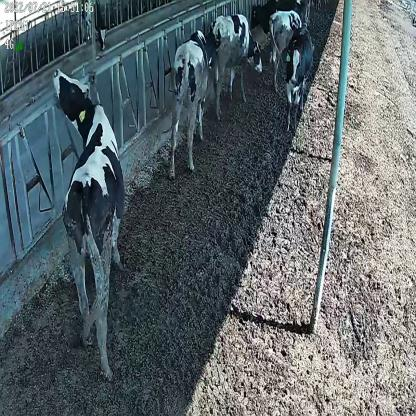cow: (50, 63, 126, 376), (169, 29, 215, 181), (211, 12, 263, 118), (284, 26, 314, 132), (269, 12, 304, 87)
